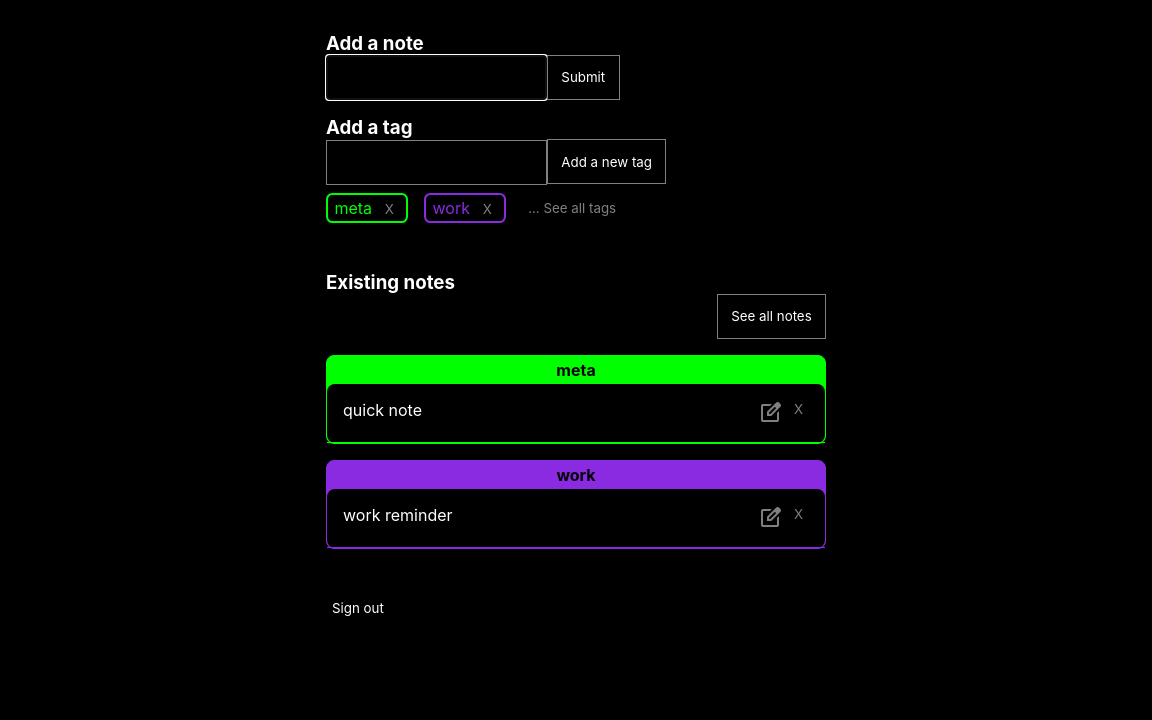
App › unhappy notes :( › error updating note displays error message
Expected: the text "quick note" is shown, x1=343 y1=400 x2=422 y2=426
Click the button with test id "note-1-edit" at (770,413), box x1=752 y1=400 x2=788 y2=426
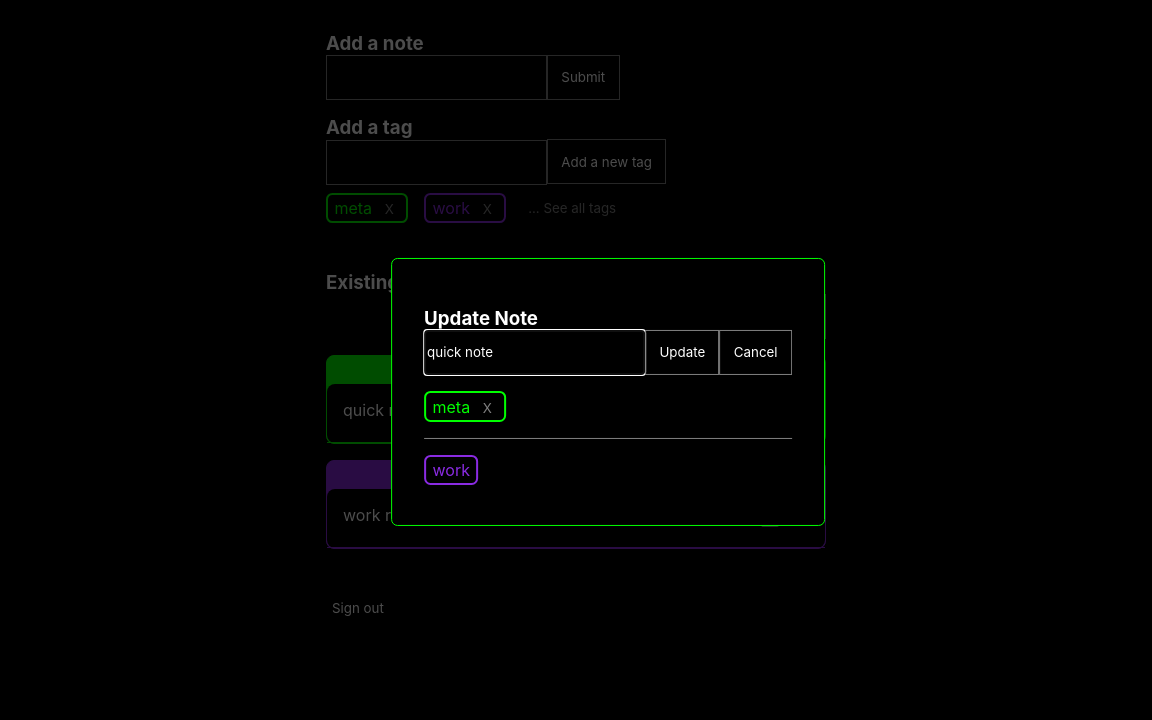
Click the button with test id "tag-1-delete" showing "X" at (487,408), box x1=477 y1=398 x2=498 y2=416
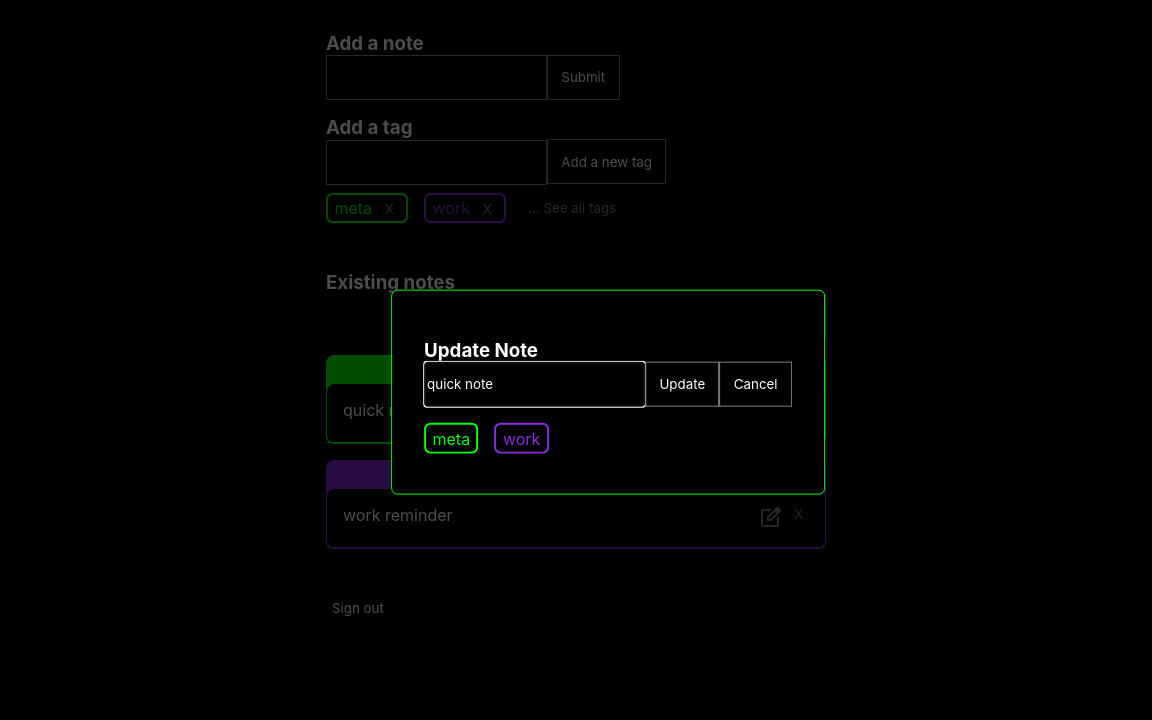
Submit the form from the button "Update", box x1=645 y1=362 x2=720 y2=406
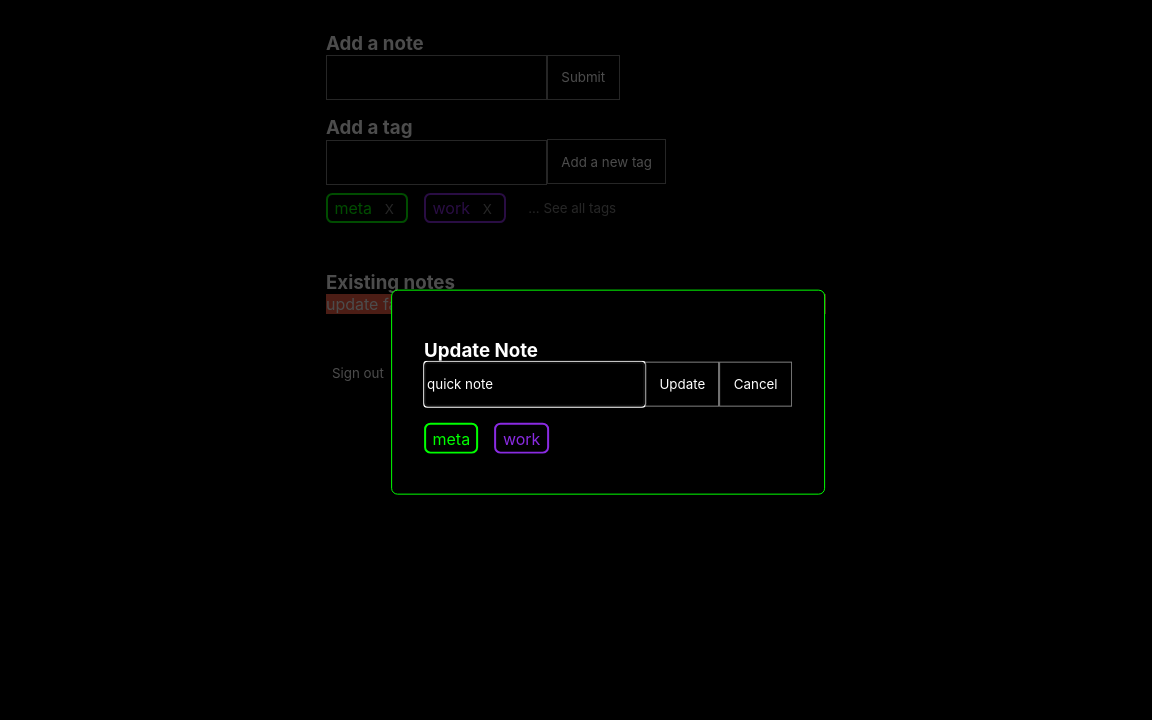
Now the text "update failed!" is shown, box x1=326 y1=294 x2=826 y2=314
